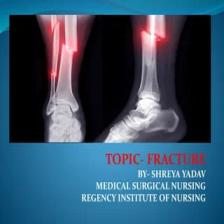open-compound-fracture: (30, 14, 190, 145)
